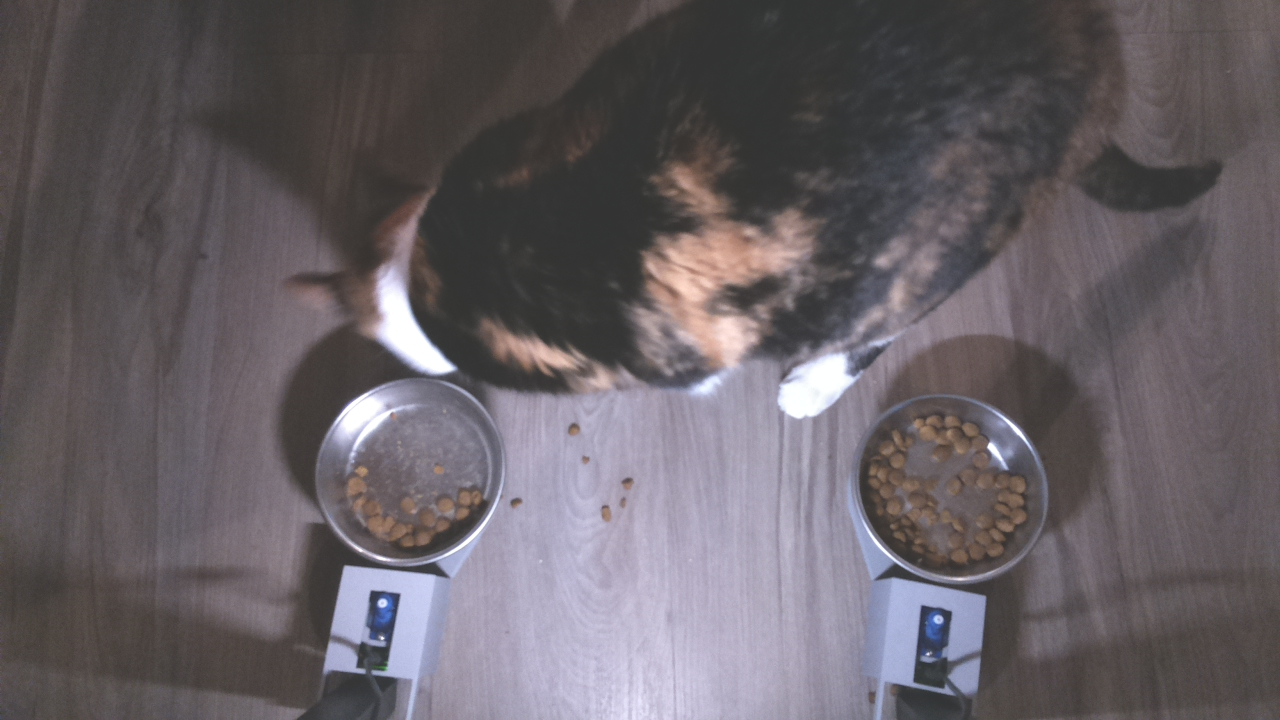bella: (273, 139, 537, 377)
open_bowl: (850, 390, 1052, 589), (311, 376, 509, 572)
